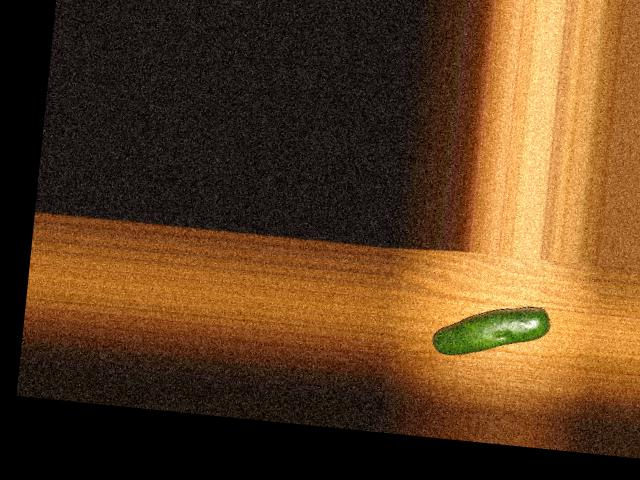cucumber: (430, 297, 550, 363)
